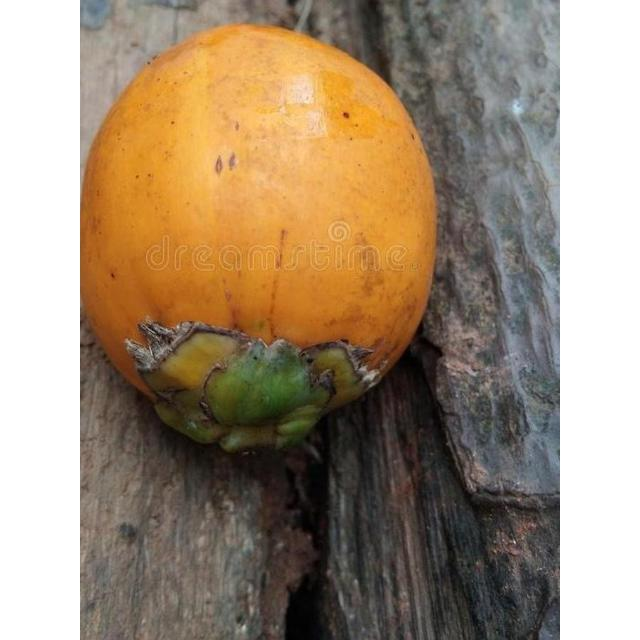good: (80, 24, 438, 454)
